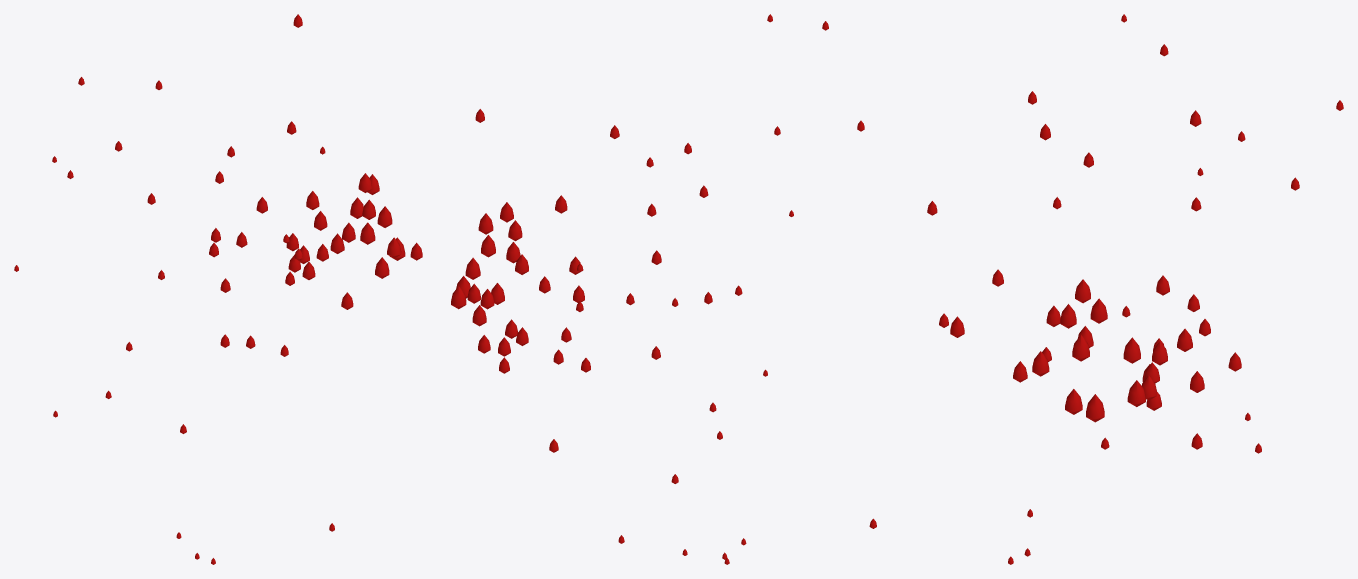
Rendered from tb_bloodspray.glb.
3 views of the same model, side by side, from view 1: azimuth 30°, elevation 25°; view 2: azimuth 150°, elevation 25°; view 3: azimuth 270°, elevation 25° (orthographic). The views are drawn at different scales.
Visible parts, largest first — view 1: bloodspray; view 2: bloodspray; view 3: bloodspray.
Part boxes in pixels (<box>): bloodspray: <box>14,14,422,564</box>; bloodspray: <box>451,14,793,564</box>; bloodspray: <box>822,14,1343,564</box>.
Bounding box in the file's own units: 0.7323 × 0.9402 × 0.7884.
